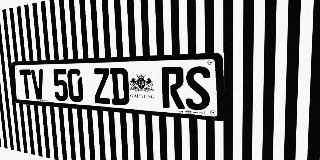0: (67, 68, 84, 102)
5: (53, 69, 69, 101)
D: (110, 68, 130, 106)
R: (161, 67, 185, 109)
S: (185, 66, 211, 111)
T: (19, 69, 33, 99)
V: (31, 69, 45, 100)
Z: (93, 68, 111, 104)
